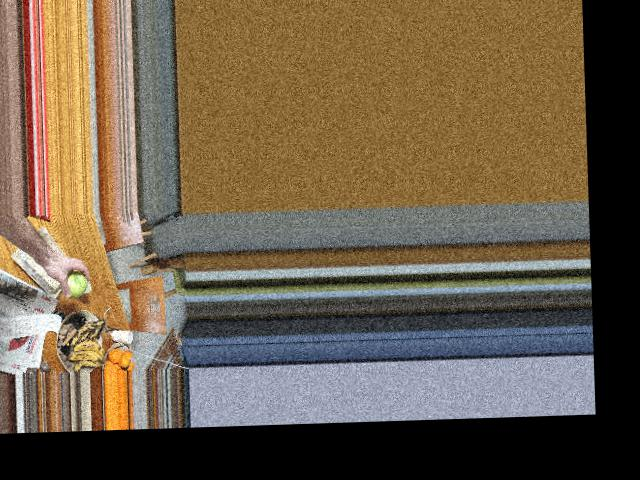apple: (59, 268, 91, 298)
